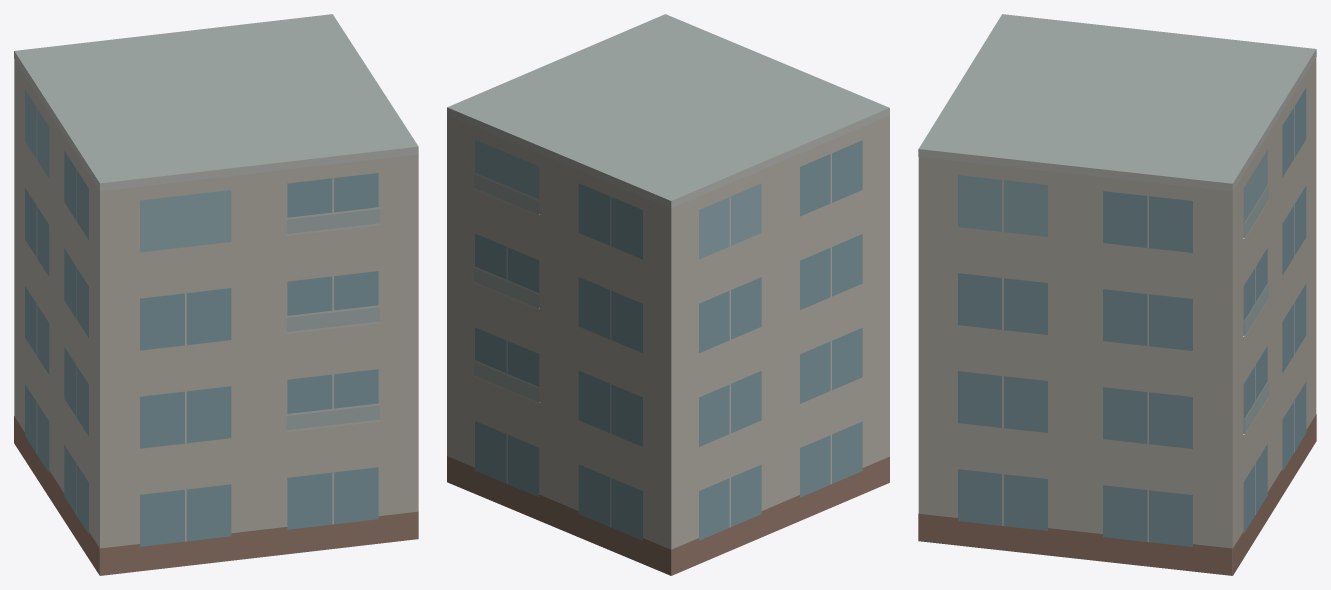
The model's file is residential-505ce004-0986-404e-9763-2fda872aa20e.glb.
3 renders of one model, left to right at view 1: azimuth 30°, elevation 25°; view 2: azimuth 150°, elevation 25°; view 3: azimuth 270°, elevation 25°, orthographic. The views are drawn at different scales.
Visible parts, largest first — view 1: residential-505ce004-0986-404e-9763-2fda872aa20e.tmp; view 2: residential-505ce004-0986-404e-9763-2fda872aa20e.tmp; view 3: residential-505ce004-0986-404e-9763-2fda872aa20e.tmp.
Part boxes in pixels (box(x1,y1,x2,y2)): residential-505ce004-0986-404e-9763-2fda872aa20e.tmp: box(14, 14, 418, 575); residential-505ce004-0986-404e-9763-2fda872aa20e.tmp: box(447, 14, 889, 575); residential-505ce004-0986-404e-9763-2fda872aa20e.tmp: box(918, 14, 1316, 575).
Size of the model in its own units: 11.34 by 12.2 by 11.23.
